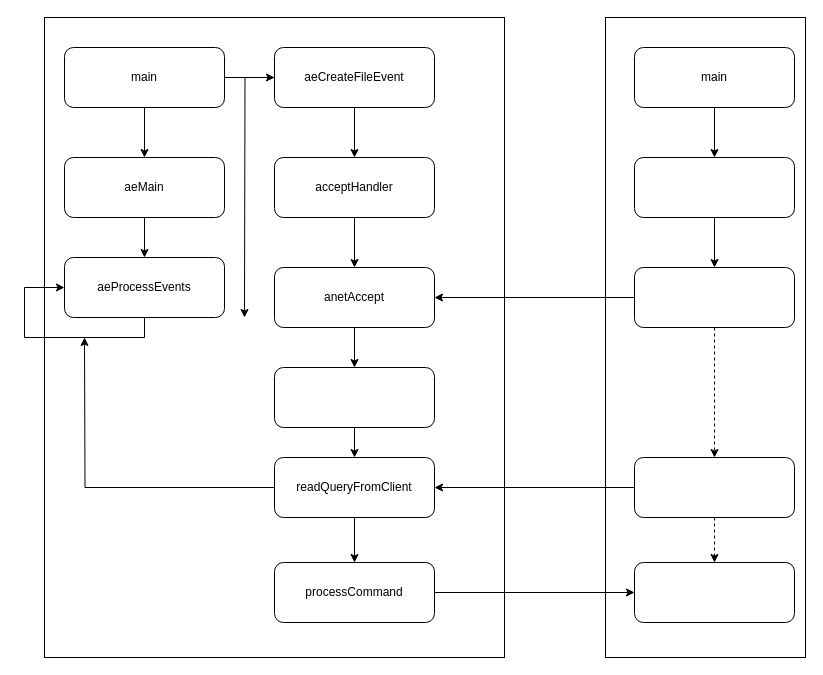
The diagram is 823 pixels wide and 675 high, and some of its shapes have lost their labels. Each missing label, with the centre of its shape:
anetWrite: [714,487]
cliConnect: [714,297]
cliReadInlineReply: [714,592]
cliSendCommand: [714,187]
createClient: [354,397]
